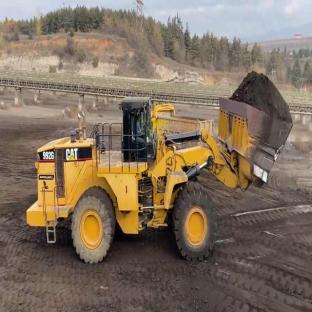ExcavationMachinery: (61, 47, 295, 250)
